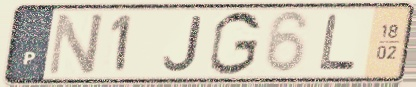1: (108, 13, 133, 76)
6: (261, 8, 315, 78)
G: (207, 9, 264, 77)
J: (161, 14, 204, 73)
L: (316, 12, 359, 73)
N: (44, 10, 108, 78)
